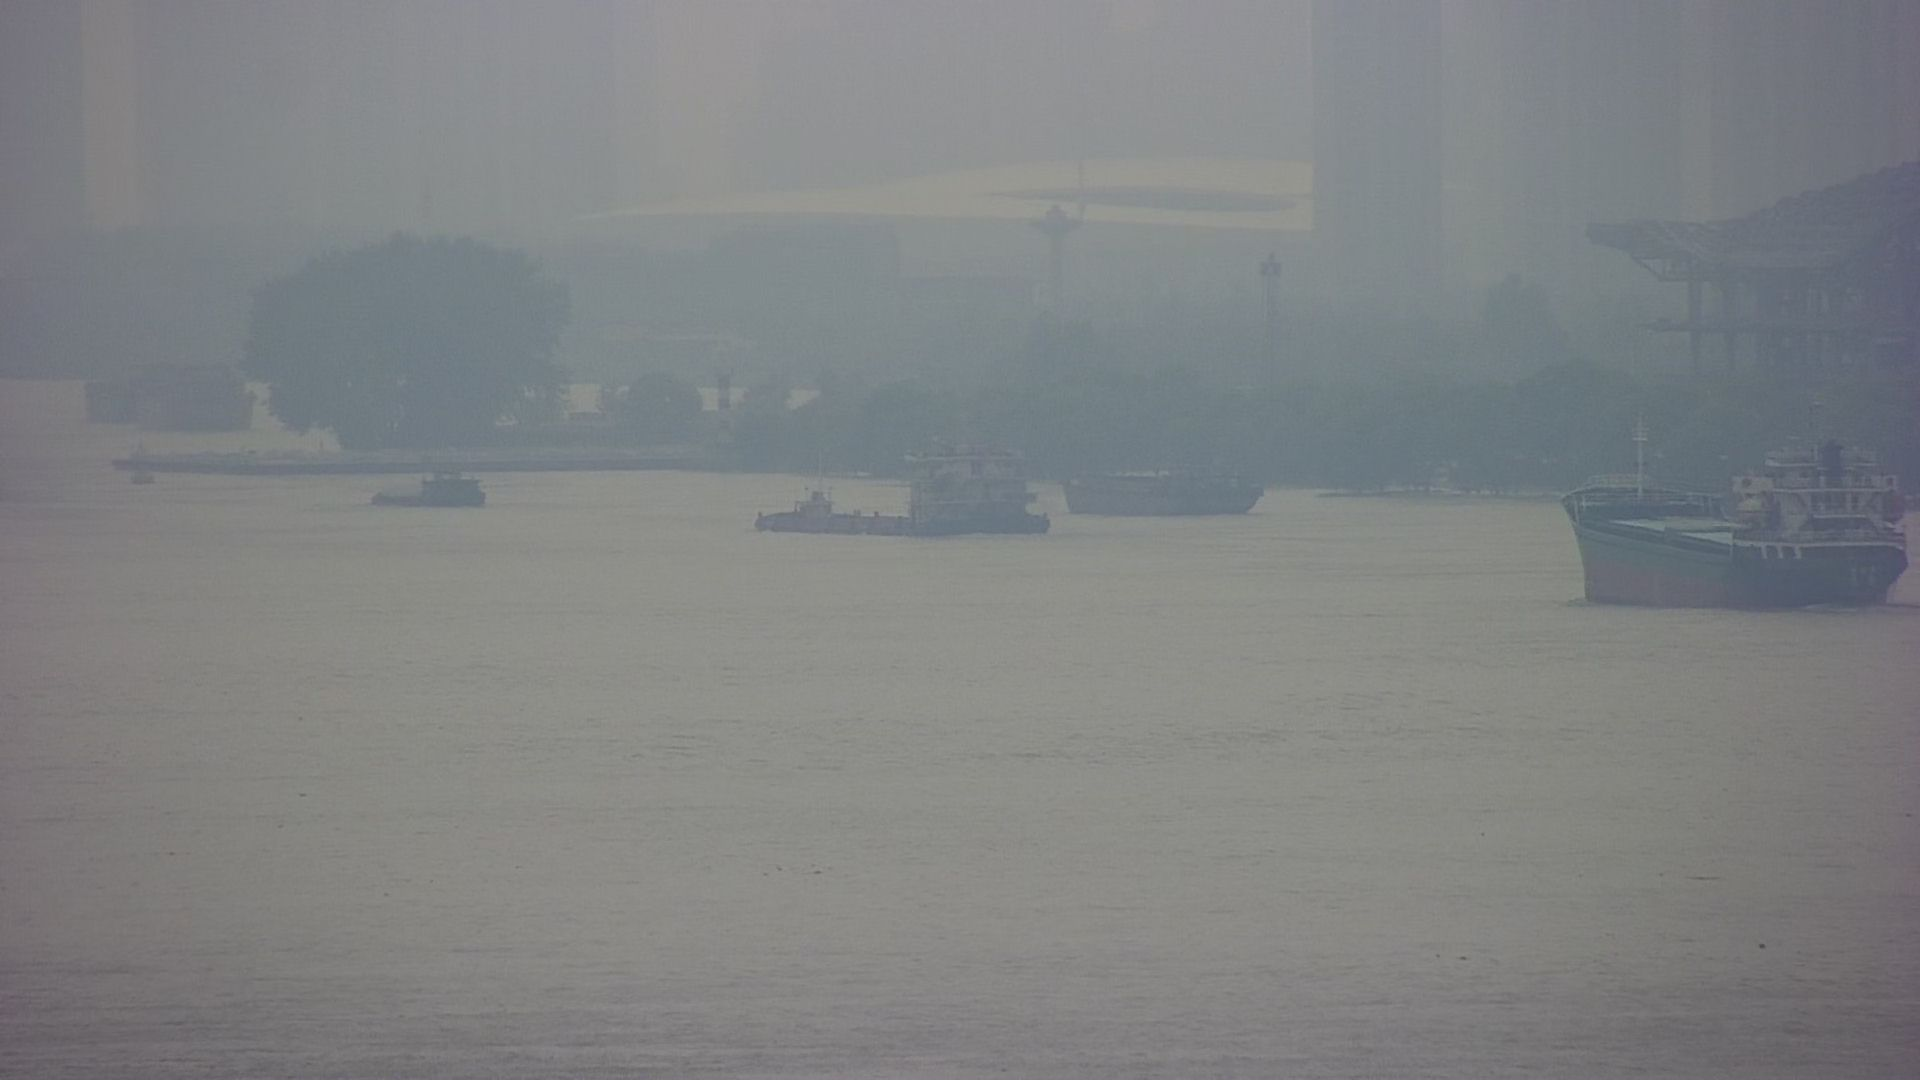boat: (357, 458, 510, 524)
ship: (1543, 401, 1919, 636), (723, 418, 1058, 545), (1054, 392, 1280, 517)
